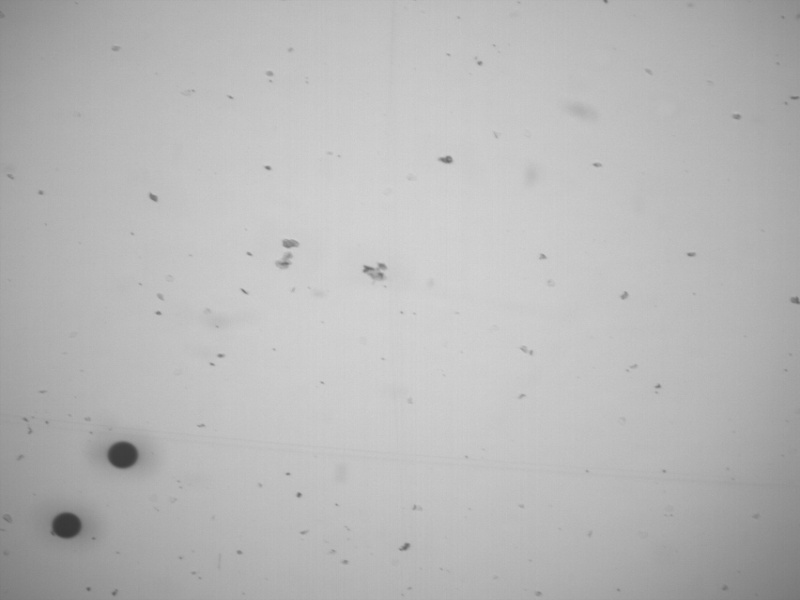bead: (106, 439, 139, 471), (52, 511, 82, 539)
